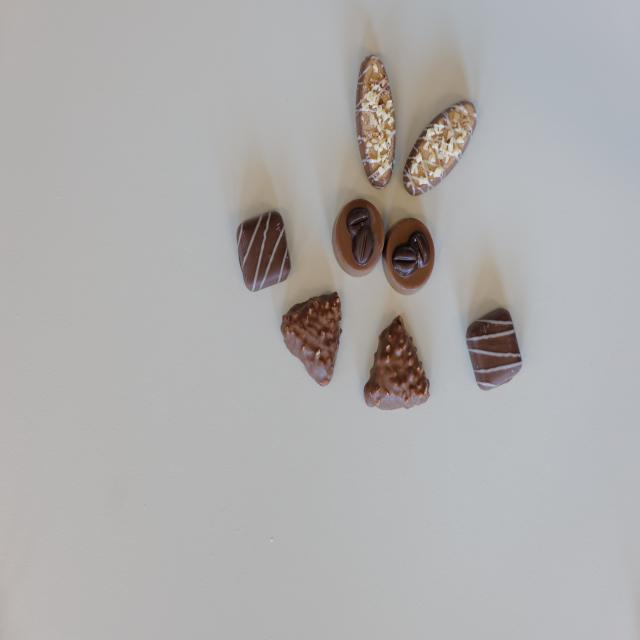Amandina: (402, 99, 478, 198), (356, 55, 395, 189)
Arabia: (331, 198, 384, 278), (383, 218, 436, 297)
Stracciatella: (467, 306, 523, 390), (236, 210, 292, 292)
Triangolo: (280, 290, 344, 388), (364, 316, 430, 410)
